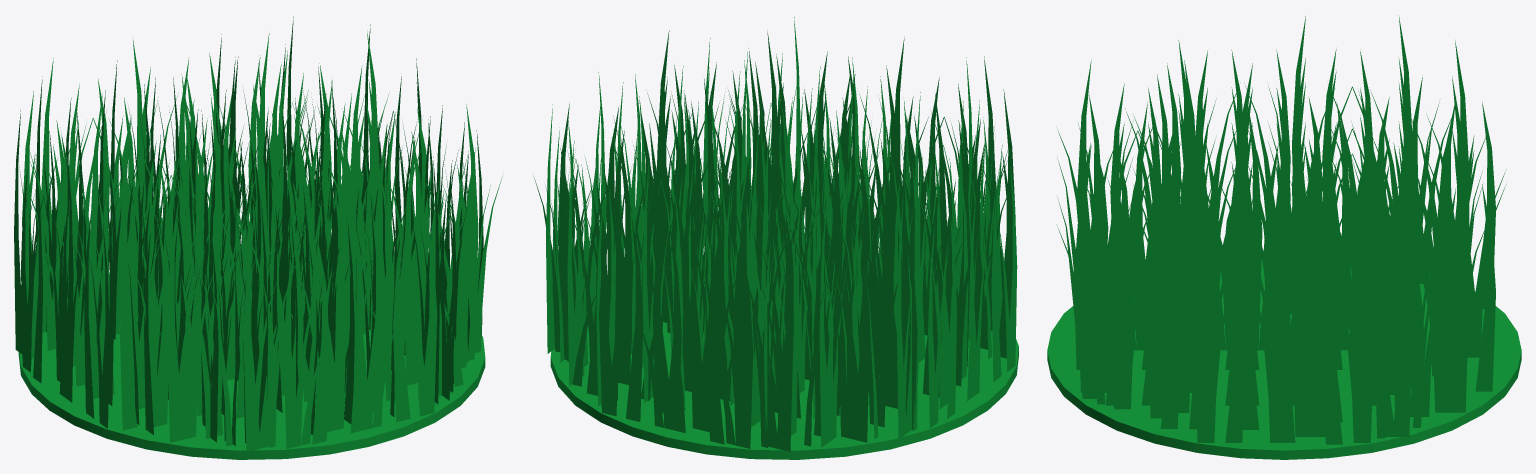
File: plant9.fbx
3 renders of one model, left to right at view 1: azimuth 30°, elevation 25°; view 2: azimuth 150°, elevation 25°; view 3: azimuth 270°, elevation 25°, orthographic.
Parts seen in each view (by area): view 1: Leaves; view 2: Leaves; view 3: Leaves.
Part boxes in pixels (bbox=[...]): Leaves: bbox=[14, 16, 502, 459]; Leaves: bbox=[533, 17, 1018, 459]; Leaves: bbox=[1047, 15, 1521, 459].
Size of the model in its own units: 2.36 by 1.43 by 2.36.
